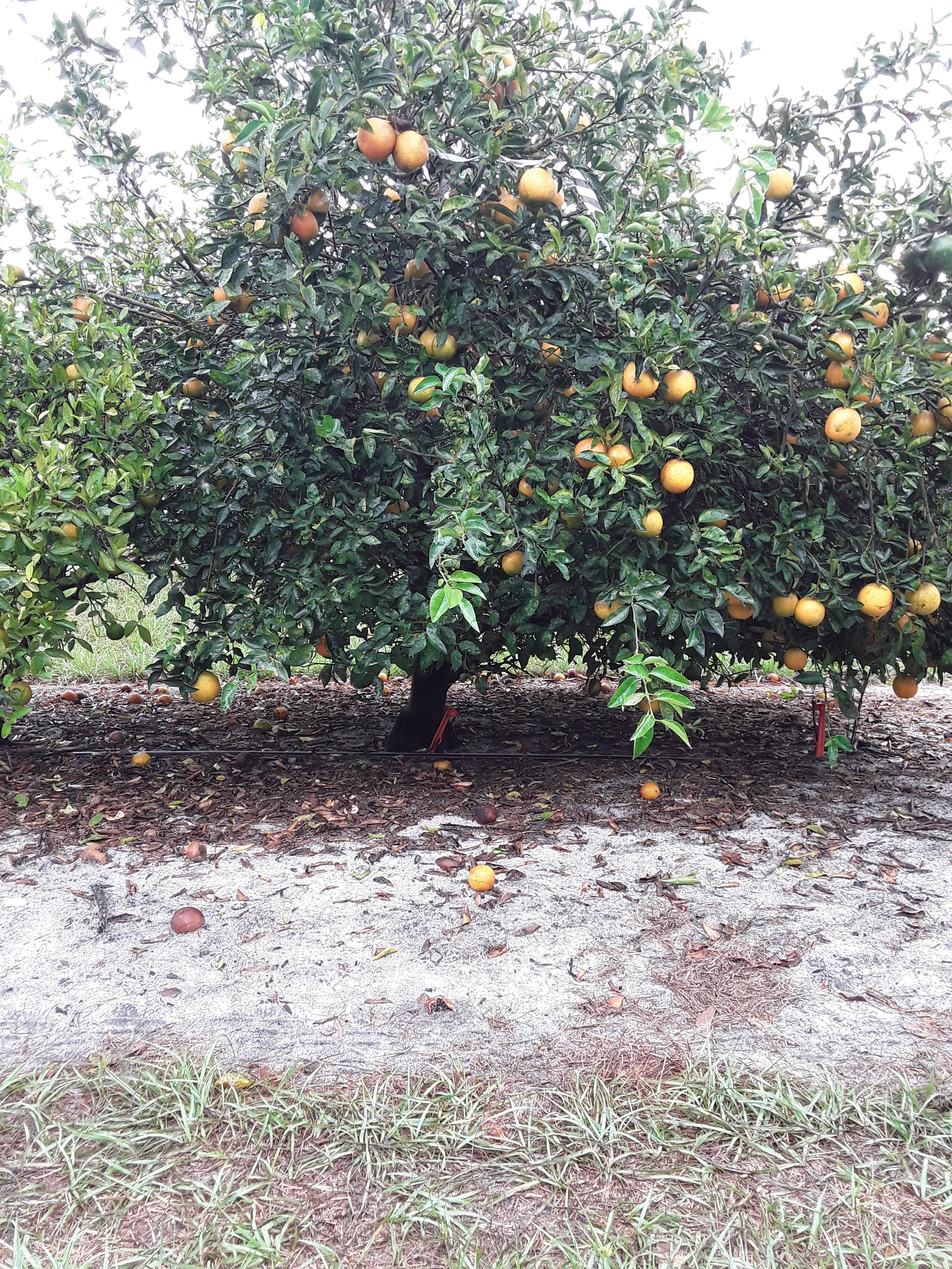fruit_on_ground: (479, 184, 526, 226), (355, 114, 397, 161), (394, 129, 432, 171), (758, 164, 797, 203), (620, 359, 658, 399), (518, 166, 557, 204), (824, 268, 865, 304), (660, 366, 698, 404), (903, 580, 942, 617), (476, 44, 517, 79), (753, 273, 794, 308), (915, 327, 952, 365), (856, 580, 893, 618), (555, 101, 595, 136), (474, 72, 511, 108), (660, 458, 697, 494), (825, 406, 861, 443), (849, 372, 885, 408), (499, 70, 533, 107), (857, 294, 892, 329), (572, 435, 608, 469), (723, 588, 758, 621), (229, 143, 262, 178), (189, 670, 222, 704), (794, 594, 827, 628), (640, 235, 672, 270), (823, 328, 858, 360), (905, 409, 938, 442), (722, 297, 757, 328), (925, 233, 952, 273), (536, 244, 572, 274), (288, 209, 320, 241), (488, 118, 522, 148), (635, 507, 666, 539), (824, 358, 857, 388), (387, 305, 418, 336), (554, 501, 587, 530), (429, 329, 459, 360), (249, 218, 280, 247), (407, 375, 438, 404), (593, 593, 625, 621), (378, 286, 408, 315), (70, 293, 100, 322), (3, 678, 34, 706), (770, 590, 799, 619), (535, 338, 565, 366), (606, 440, 635, 468), (404, 255, 433, 283), (382, 496, 412, 523), (890, 674, 920, 701), (434, 180, 465, 206), (312, 630, 340, 658), (739, 337, 768, 364), (826, 454, 855, 481), (604, 274, 635, 299), (452, 219, 483, 244), (892, 611, 921, 637), (499, 549, 526, 576), (233, 287, 259, 315), (306, 185, 332, 213), (932, 392, 952, 428), (509, 247, 536, 273), (246, 188, 273, 214), (418, 327, 443, 355), (901, 534, 929, 559), (354, 326, 383, 350), (782, 646, 808, 672), (780, 423, 808, 447), (378, 183, 406, 207), (536, 471, 562, 496), (529, 393, 555, 418), (216, 129, 241, 155), (638, 692, 665, 716), (508, 425, 537, 446), (372, 280, 397, 304), (369, 366, 394, 390), (516, 474, 540, 499), (61, 360, 85, 385), (180, 376, 206, 399), (200, 408, 223, 433), (546, 187, 569, 212), (46, 487, 72, 509), (558, 379, 583, 401), (56, 519, 81, 541), (705, 510, 731, 531), (330, 359, 357, 379), (796, 292, 819, 315), (278, 537, 302, 559), (137, 485, 161, 507), (208, 470, 231, 492), (175, 400, 198, 421), (439, 446, 462, 467), (209, 307, 230, 329), (422, 400, 445, 420), (105, 622, 127, 642), (1, 382, 21, 403), (759, 630, 779, 651), (583, 676, 604, 696), (213, 282, 232, 304), (682, 661, 703, 680), (184, 333, 205, 351), (925, 611, 945, 628), (0, 618, 10, 652), (772, 631, 786, 645)
fruit_on_tree: (170, 905, 205, 937), (465, 862, 497, 893), (79, 844, 108, 866), (183, 840, 208, 864), (638, 778, 662, 802), (474, 804, 498, 825), (234, 750, 257, 769), (130, 750, 152, 768), (431, 757, 453, 773), (597, 678, 614, 696), (252, 717, 272, 732), (108, 728, 128, 743), (273, 704, 290, 721), (126, 691, 143, 705), (252, 686, 270, 699), (156, 692, 174, 705), (61, 688, 79, 701), (566, 666, 583, 679), (553, 669, 568, 682), (767, 671, 782, 684), (377, 669, 391, 682), (117, 683, 132, 695), (703, 678, 717, 690), (286, 675, 299, 687), (379, 685, 393, 696)
